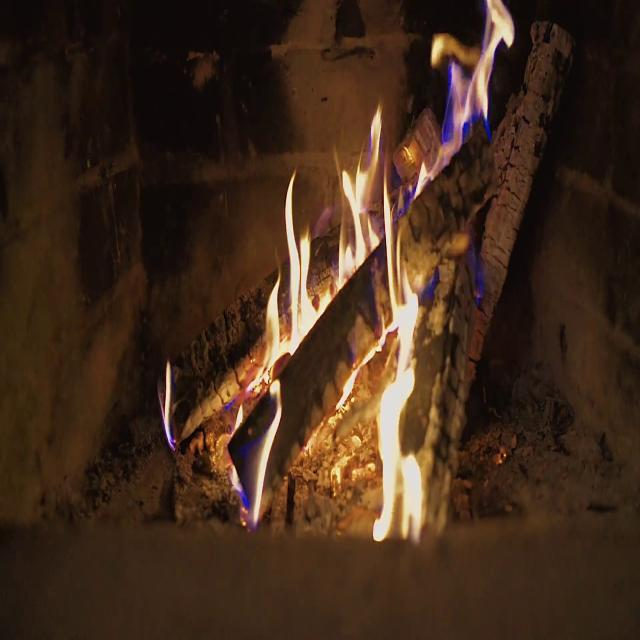Fire: (236, 100, 437, 544), (424, 0, 518, 152)
